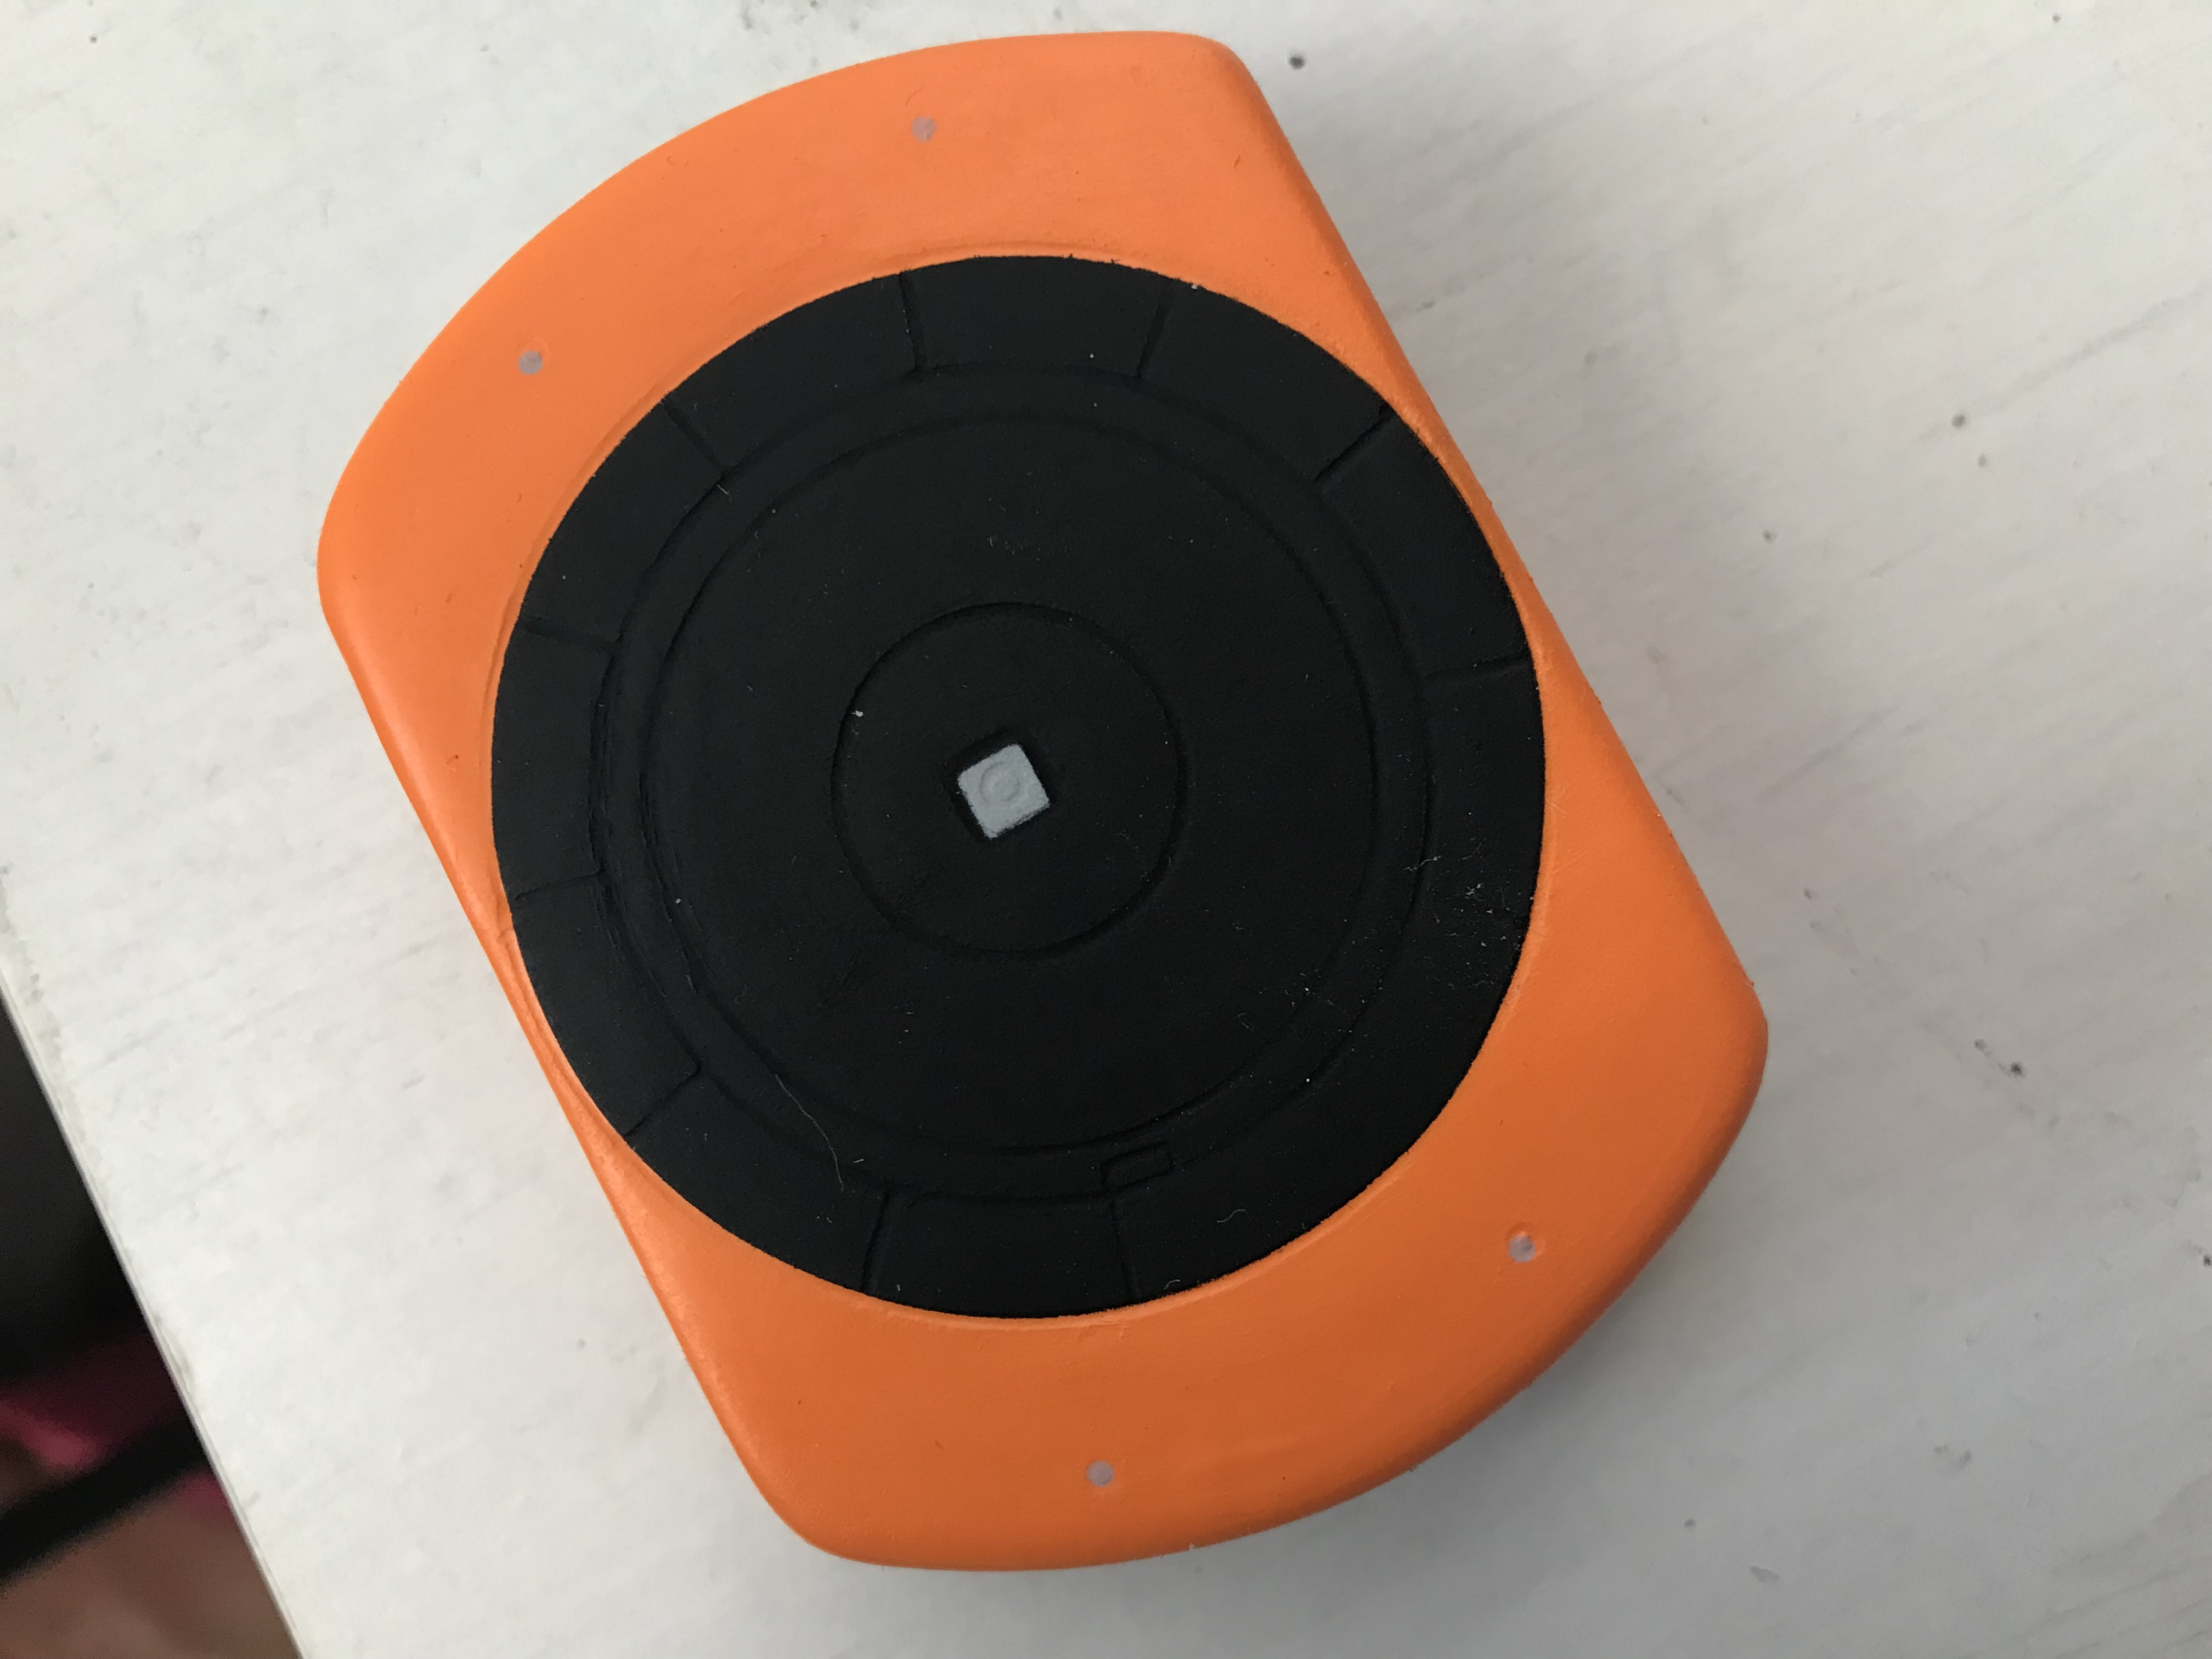amazon_bot: (308, 12, 1813, 1614)
